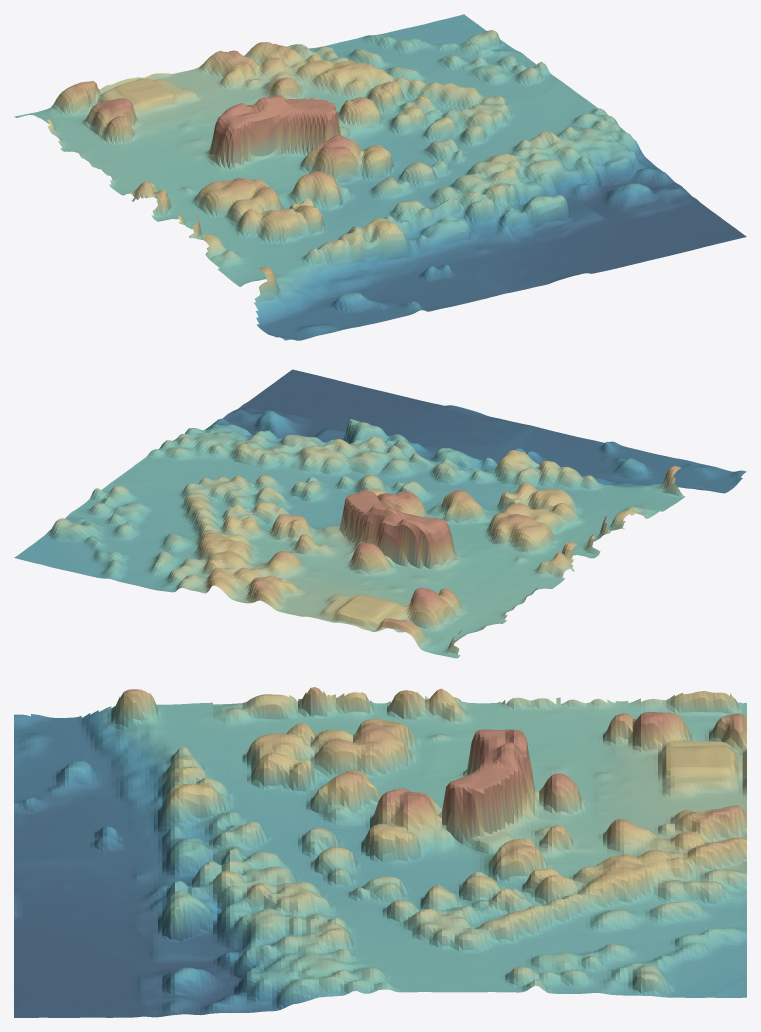
Rendered from oma084_disp_diachronic.glb.
The picture shows the model from 3 angles, top to bottom: view 1: azimuth 30°, elevation 25°; view 2: azimuth 150°, elevation 25°; view 3: azimuth 270°, elevation 25°; orthographic projection. The views are drawn at different scales.
Parts seen in each view (by area): view 1: world; view 2: world; view 3: world.
Boxes of the visible parts, x1,y1,x2,y2 form: world: (14, 14, 746, 340); world: (14, 369, 746, 658); world: (14, 687, 746, 1017).
Size of the model in its own units: 328 by 47 by 346.
